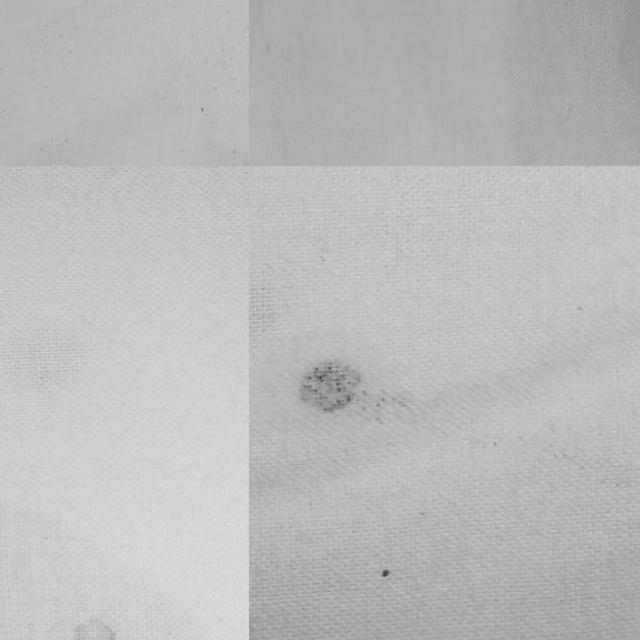Thread_other: (251, 309, 421, 465), (346, 519, 457, 640), (33, 560, 172, 640)
